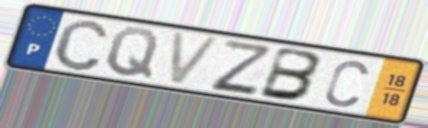B: (256, 45, 326, 103)
C: (50, 17, 112, 74), (322, 58, 371, 109)
Q: (103, 25, 162, 82)
V: (167, 29, 226, 88)
Z: (208, 37, 273, 96)
